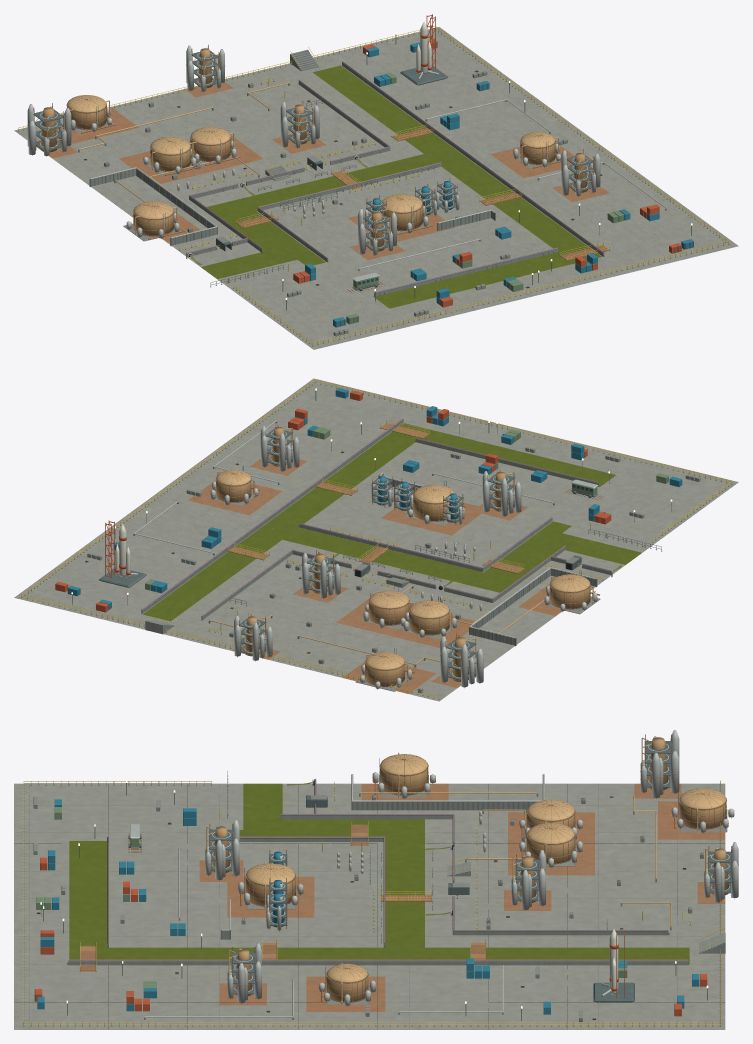
Rendered from terrain-props.glb.
3 renders of one model, top to bottom at view 1: azimuth 30°, elevation 25°; view 2: azimuth 150°, elevation 25°; view 3: azimuth 270°, elevation 25°, orthographic. The views are drawn at different scales.
Parts seen in each view (by area): view 1: hm10-opaque-chunk-4-2, hm10-opaque-chunk-2-0, hm10-opaque-chunk-0-0, hm10-opaque-chunk-2-4, hm10-opaque-chunk-0-2, hm10-opaque-chunk-1-3, hm10-opaque-chunk-1-1, hm10-opaque-chunk-2-2, hm10-opaque-chunk-4-3, hm10-opaque-chunk-2-1, hm10-opaque-chunk-0-4, hm10-opaque-chunk-4-0 (+24 smaller); view 2: hm10-opaque-chunk-4-2, hm10-opaque-chunk-0-0, hm10-opaque-chunk-2-0, hm10-opaque-chunk-0-2, hm10-opaque-chunk-1-3, hm10-opaque-chunk-2-3, hm10-opaque-chunk-2-1, hm10-opaque-chunk-4-0, hm10-opaque-chunk-1-1, hm10-opaque-chunk-2-2, hm10-opaque-chunk-4-3, hm10-opaque-chunk-0-4 (+24 smaller); view 3: hm10-opaque-chunk-4-2, hm10-opaque-chunk-0-2, hm10-opaque-chunk-0-0, hm10-opaque-chunk-2-0, hm10-opaque-chunk-1-1, hm10-opaque-chunk-2-4, hm10-opaque-chunk-3-1, hm10-opaque-chunk-2-1, hm10-opaque-chunk-0-4, hm10-opaque-chunk-2-3, hm10-opaque-chunk-2-2, hm10-opaque-chunk-3-3 (+24 smaller).
Boxes of the visible parts, <box> form: hm10-opaque-chunk-4-2: <box>342,61,630,256</box>; hm10-opaque-chunk-2-0: <box>18,26,434,130</box>; hm10-opaque-chunk-0-0: <box>14,95,142,169</box>; hm10-opaque-chunk-2-4: <box>359,212,557,296</box>; hm10-opaque-chunk-0-2: <box>115,167,262,252</box>; hm10-opaque-chunk-1-3: <box>250,207,391,267</box>; hm10-opaque-chunk-1-1: <box>140,127,268,189</box>; hm10-opaque-chunk-2-2: <box>258,153,441,210</box>; hm10-opaque-chunk-4-3: <box>476,135,604,212</box>; hm10-opaque-chunk-2-1: <box>227,101,346,168</box>; hm10-opaque-chunk-0-4: <box>227,263,355,343</box>; hm10-opaque-chunk-4-0: <box>317,14,447,95</box>; hm10-opaque-chunk-4-2: <box>141,418,403,613</box>; hm10-opaque-chunk-0-0: <box>355,633,492,701</box>; hm10-opaque-chunk-2-0: <box>22,579,438,697</box>; hm10-opaque-chunk-0-2: <box>470,545,600,633</box>; hm10-opaque-chunk-1-3: <box>448,472,576,571</box>; hm10-opaque-chunk-2-3: <box>372,475,496,547</box>; hm10-opaque-chunk-2-1: <box>266,550,393,625</box>; hm10-opaque-chunk-4-0: <box>62,520,189,627</box>; hm10-opaque-chunk-1-1: <box>342,585,471,643</box>; hm10-opaque-chunk-2-2: <box>299,523,482,587</box>; hm10-opaque-chunk-4-3: <box>213,423,349,510</box>; hm10-opaque-chunk-0-4: <box>577,474,731,545</box>; hm10-opaque-chunk-4-2: <box>68,958,688,1004</box>; hm10-opaque-chunk-0-2: <box>280,752,541,827</box>; hm10-opaque-chunk-0-0: <box>599,730,734,832</box>; hm10-opaque-chunk-2-0: <box>599,780,738,1021</box>; hm10-opaque-chunk-1-1: <box>466,799,598,871</box>; hm10-opaque-chunk-2-4: <box>93,832,223,945</box>; hm10-opaque-chunk-3-1: <box>453,912,668,959</box>; hm10-opaque-chunk-2-1: <box>472,849,598,914</box>; hm10-opaque-chunk-0-4: <box>24,781,219,827</box>; hm10-opaque-chunk-2-3: <box>219,833,345,914</box>; hm10-opaque-chunk-2-2: <box>346,837,472,945</box>; hm10-opaque-chunk-3-3: <box>219,885,345,959</box>.
Size of the model in its own units: 66.61 by 8.3 by 79.64.
Materials: 2 (1 with a texture image).
